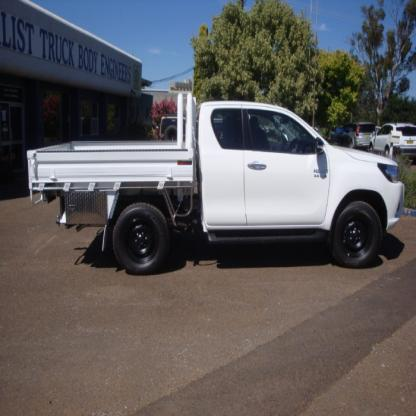light_vehicle: (20, 83, 407, 270)
